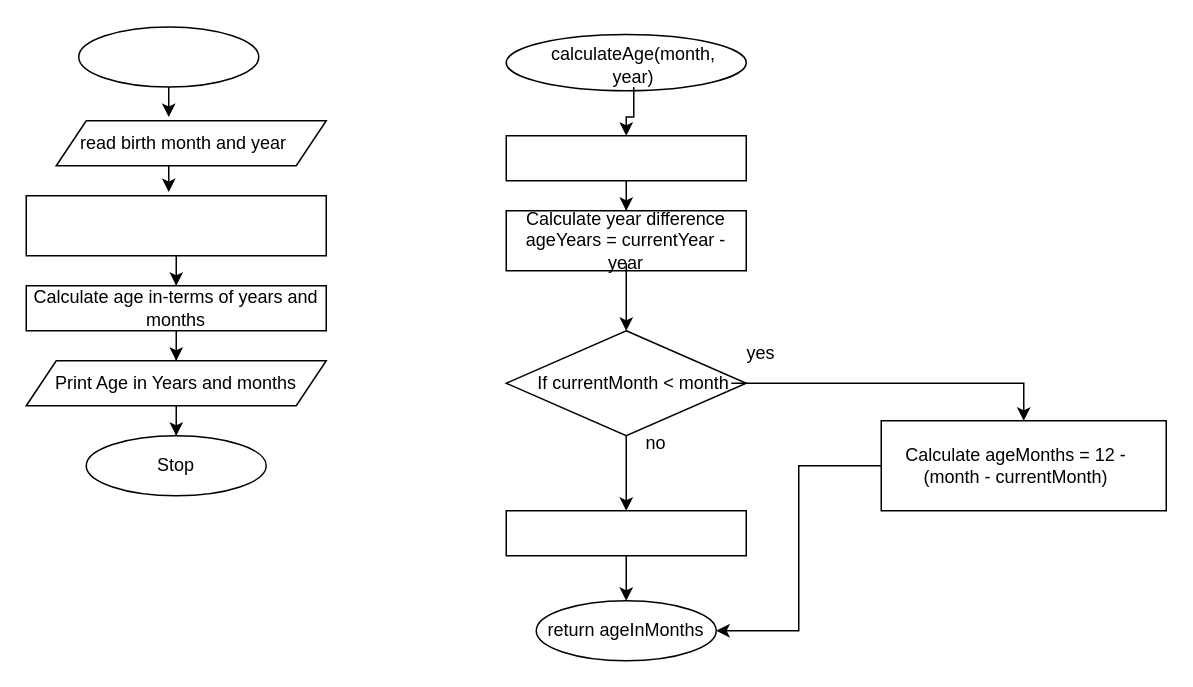
Image size: 1193x687. Some labels were removed from this diagram. Here are the shapes that lost their labels. From the top down, the centre of each, then its label:
(168,56): start
(625,157): find curretMonth and currentYear
(175,225): ageInMonths = calculateAge(month, year)
(625,532): Calculate ageMonths = currentMonth - month
